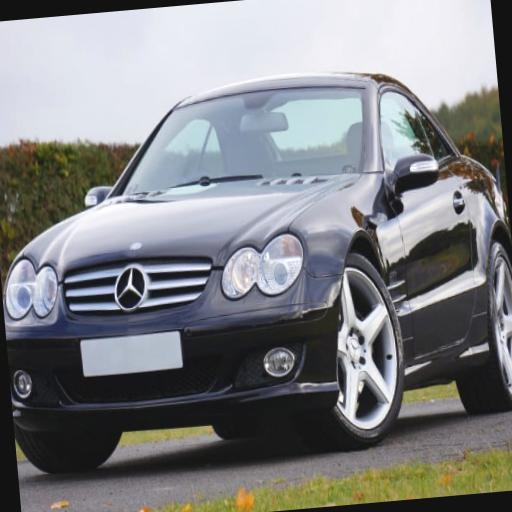coupe: (4, 75, 512, 472)
